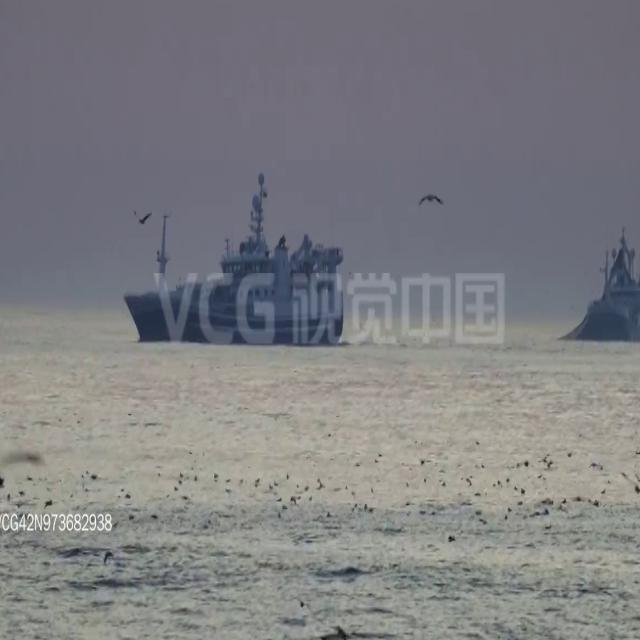houseboat: (125, 179, 344, 347), (578, 229, 640, 345)
